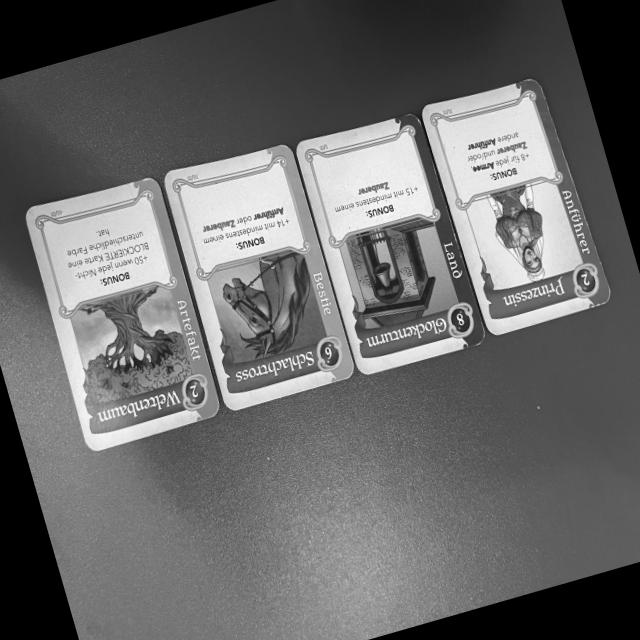Clock Tower: (289, 104, 488, 378)
Princess: (418, 76, 614, 338)
War Horse: (158, 136, 358, 410)
World Tree: (21, 173, 226, 454)
